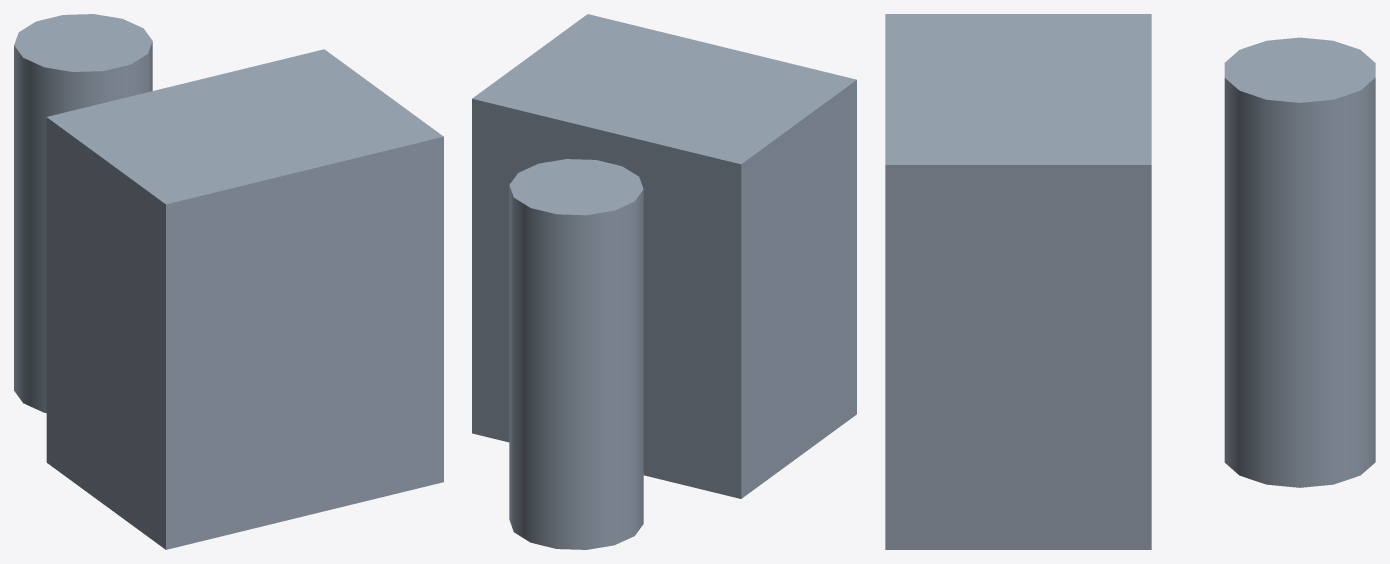
The model's file is prt0002.obj.
3 renders of one model, left to right at view 1: azimuth 30°, elevation 25°; view 2: azimuth 150°, elevation 25°; view 3: azimuth 270°, elevation 25°, orthographic. The views are drawn at different scales.
Visible parts, largest first — view 1: 1; view 2: 1; view 3: 1.
Part boxes in pixels (bbox=[...]): 1: bbox=[14, 14, 443, 549]; 1: bbox=[472, 14, 856, 549]; 1: bbox=[885, 14, 1375, 549].
Bounding box in the file's own units: 199 × 236 × 273.
